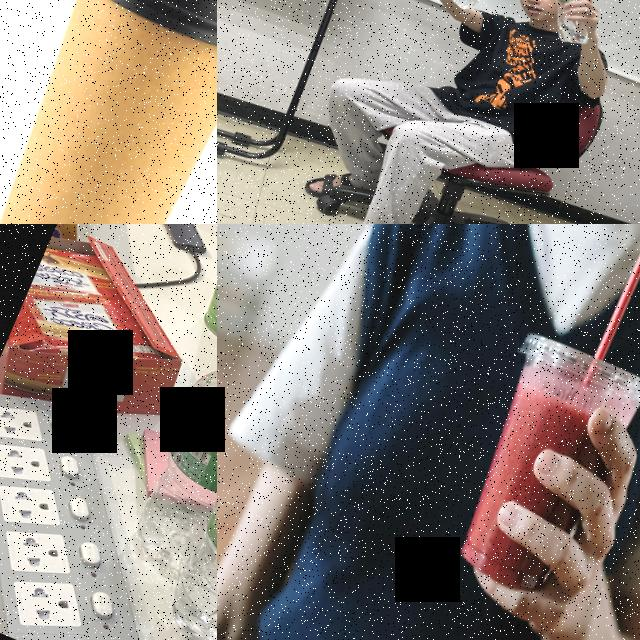bottle: (124, 326, 217, 596), (155, 397, 217, 640), (527, 0, 613, 52)
cup: (427, 325, 640, 614), (0, 0, 217, 224)
